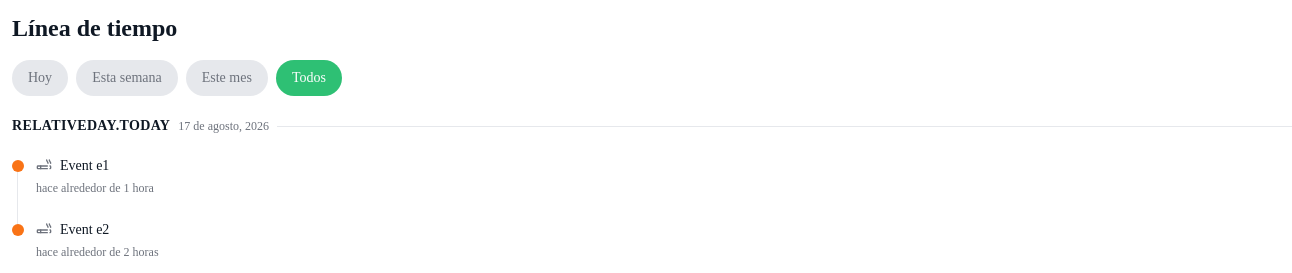
Scenario: TimelineView › switches filter and fetches new events
What coordinates should you click on to do the following:
click the button "Hoy"
I would click on:
 (40, 78)
Its box is [12, 60, 68, 96].
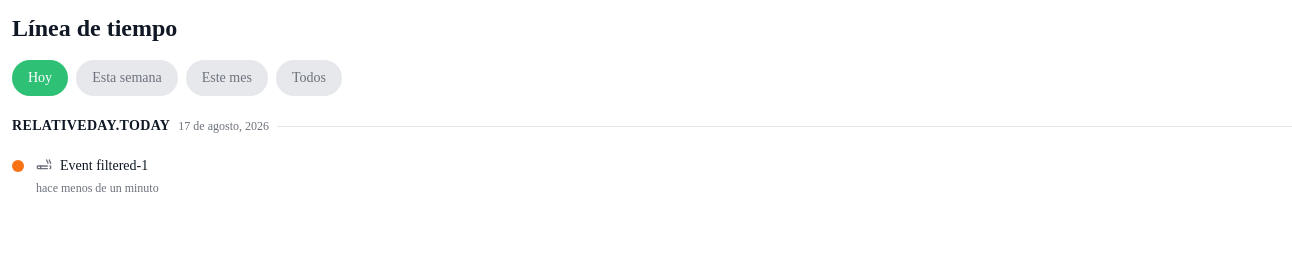
Now the text "Event filtered-1" is shown, box [60, 156, 148, 176]
